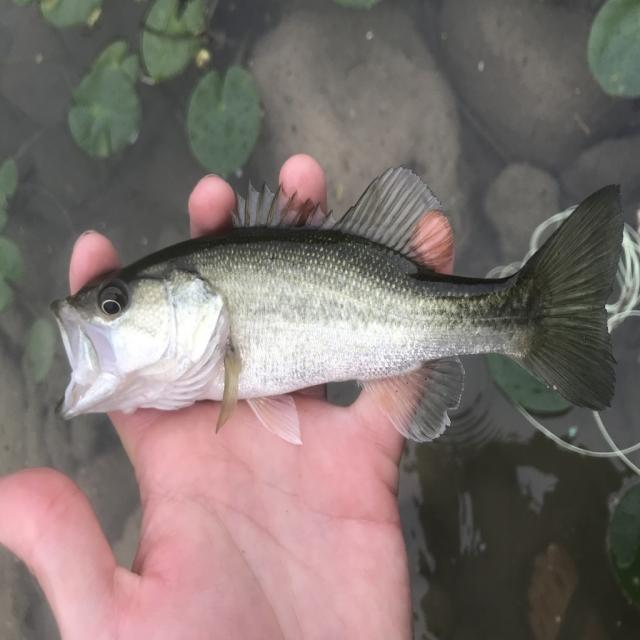Bass - Largemouth: (52, 167, 623, 442)
